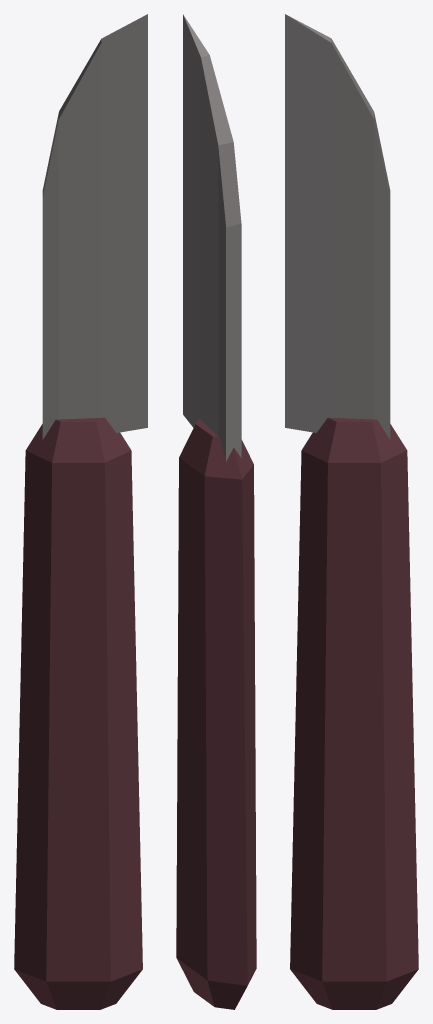
The model's file is dishes-knife-kitchen-small.glb.
The picture shows the model from 3 angles, left to right: view 1: azimuth 90°, elevation 25°; view 2: azimuth 210°, elevation 25°; view 3: azimuth 270°, elevation 25°; orthographic projection. The views are drawn at different scales.
Parts seen in each view (by area): view 1: knife-kitchen-small; view 2: knife-kitchen-small; view 3: knife-kitchen-small.
Part boxes in pixels (left/top/right/bottom): knife-kitchen-small: left=14, top=14, right=147, bottom=1009; knife-kitchen-small: left=176, top=14, right=256, bottom=1009; knife-kitchen-small: left=285, top=14, right=418, bottom=1009.
Bounding box in the file's own units: 0.00993 × 0.1841 × 0.0225.
